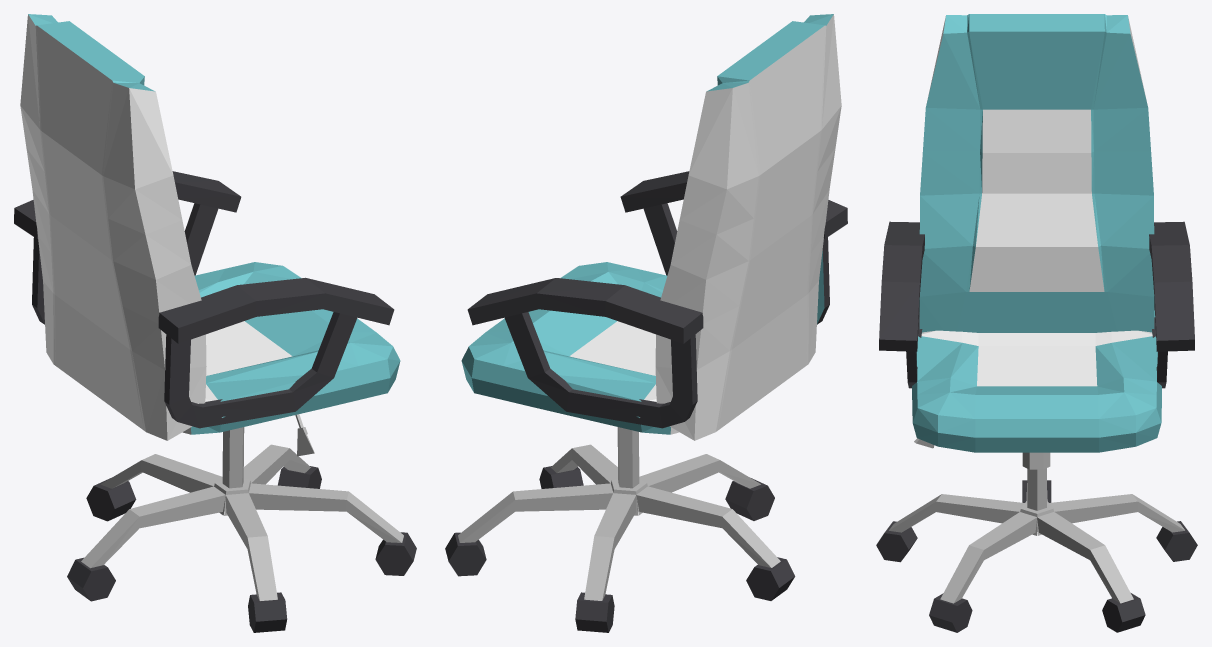
Rendered from SM_Chair_New.fbx.
3 views of the same model, side by side, from view 1: azimuth 30°, elevation 25°; view 2: azimuth 150°, elevation 25°; view 3: azimuth 270°, elevation 25° (orthographic). The views are drawn at different scales.
Parts seen in each view (by area): view 1: SM_chair_new1; view 2: SM_chair_new1; view 3: SM_chair_new1.
Boxes of the visible parts, <box> form: SM_chair_new1: <box>14,14,416,632</box>; SM_chair_new1: <box>445,14,847,632</box>; SM_chair_new1: <box>876,14,1197,632</box>.
Size of the model in its own units: 76.93 by 135 by 79.97.
